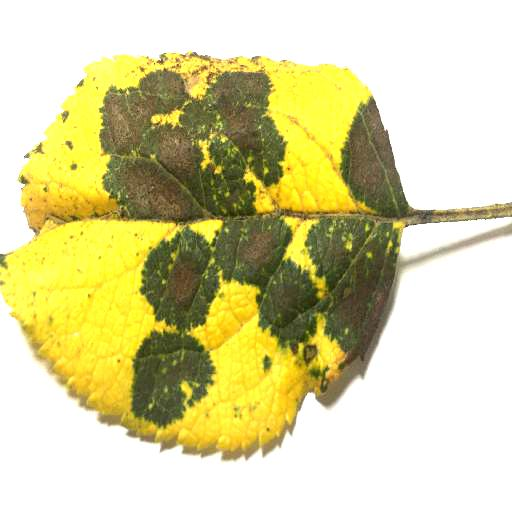Brown_Spot: (89, 71, 278, 213), (331, 247, 384, 351), (340, 105, 393, 198), (163, 251, 203, 307), (237, 220, 273, 271), (273, 281, 307, 322), (300, 345, 327, 393)
